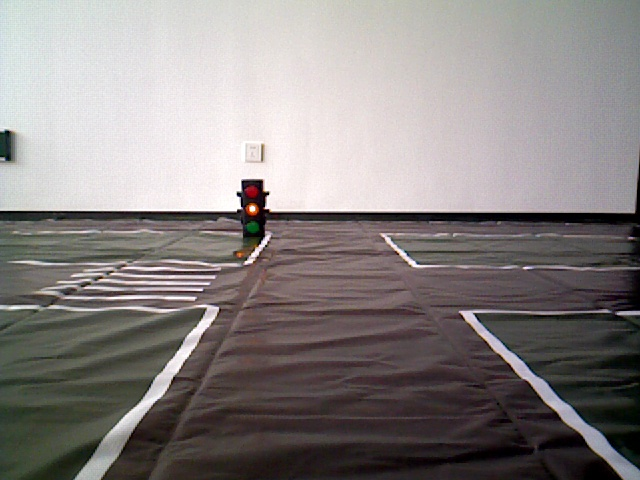yellow: (235, 177, 270, 245)
